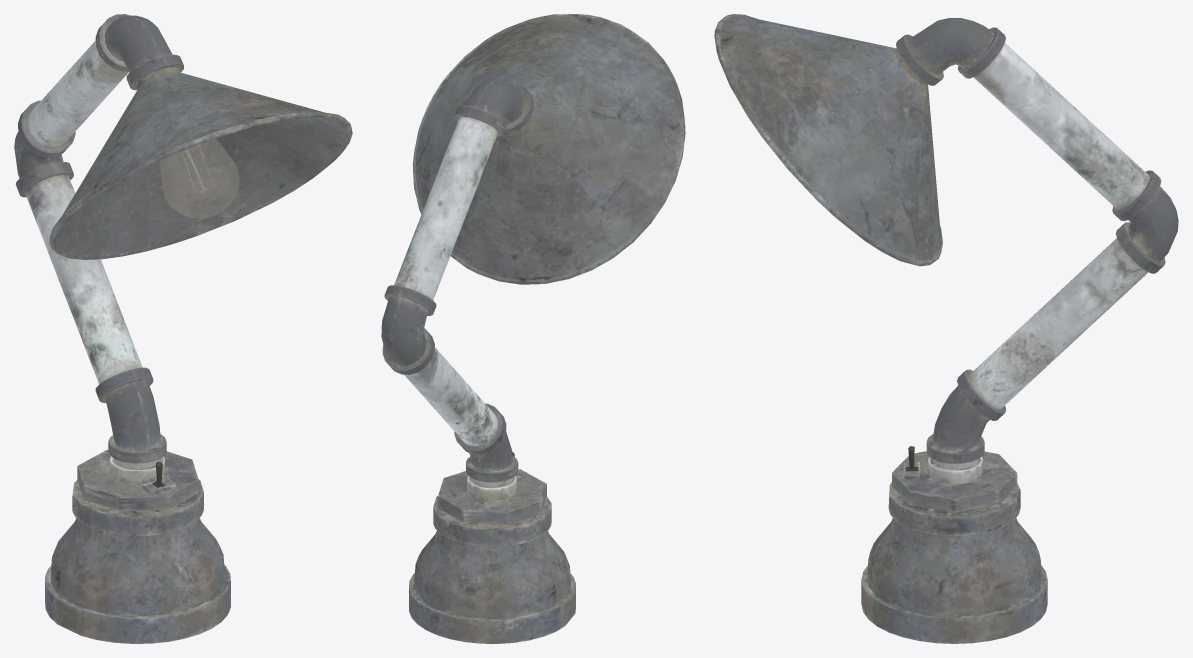
The model's file is industrial_pipe_lamp.glb.
3 renders of one model, left to right at view 1: azimuth 30°, elevation 25°; view 2: azimuth 150°, elevation 25°; view 3: azimuth 270°, elevation 25°, orthographic. The views are drawn at different scales.
Parts seen in each view (by area): view 1: industrial_pipe_lamp, industrial_pipe_lamp_bulb; view 2: industrial_pipe_lamp; view 3: industrial_pipe_lamp.
Boxes of the visible parts, x1,y1,x2,y2 form: industrial_pipe_lamp: (14, 14, 352, 643); industrial_pipe_lamp_bulb: (160, 139, 239, 218); industrial_pipe_lamp: (381, 14, 685, 643); industrial_pipe_lamp: (714, 14, 1178, 643).
Size of the model in its own units: 0.1826 by 0.3641 by 0.2621.
Materials: 2 (2 with a texture image).
